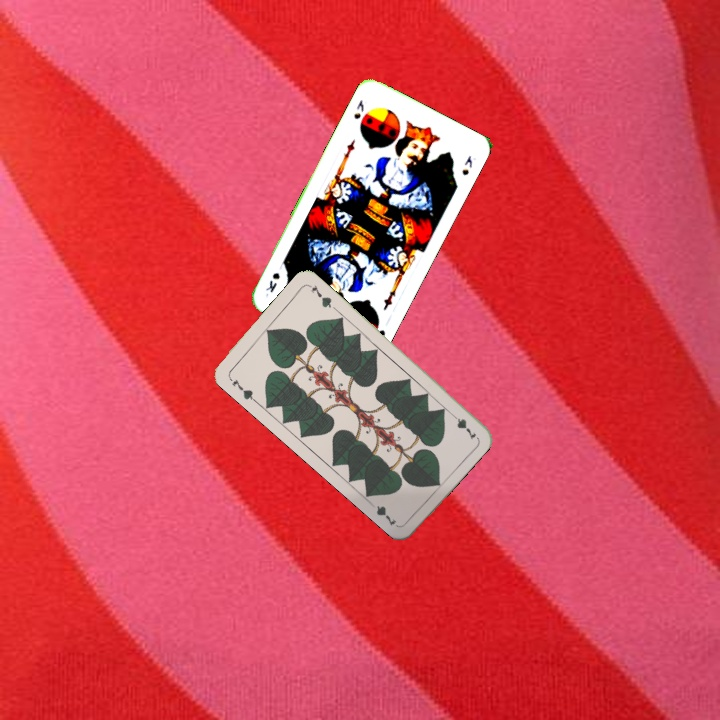G7: (446, 408, 479, 441), (225, 373, 258, 404)
SK: (350, 96, 367, 122)
